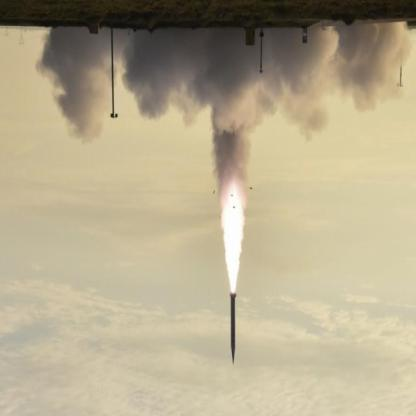MIL_TBM: (228, 288, 241, 363)
